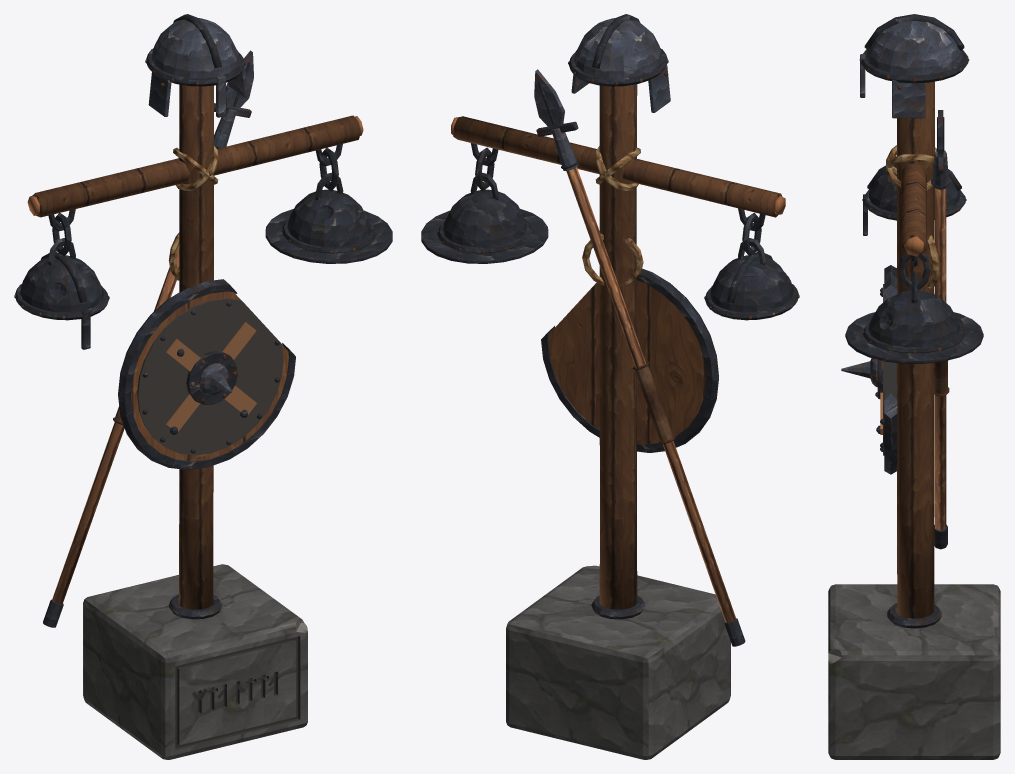
Rendered from hs_helm_trophy_pole.glb.
3 views of the same model, side by side, from view 1: azimuth 30°, elevation 25°; view 2: azimuth 150°, elevation 25°; view 3: azimuth 270°, elevation 25° (orthographic). The views are drawn at different scales.
Parts seen in each view (by area): view 1: model; view 2: model; view 3: model.
Boxes of the visible parts, <box> form: model: <box>14,14,392,759</box>; model: <box>421,14,799,759</box>; model: <box>828,14,1000,759</box>.
Bounding box in the file's own units: 1.14 × 2.09 × 0.46.
13 materials, 10 textured.
